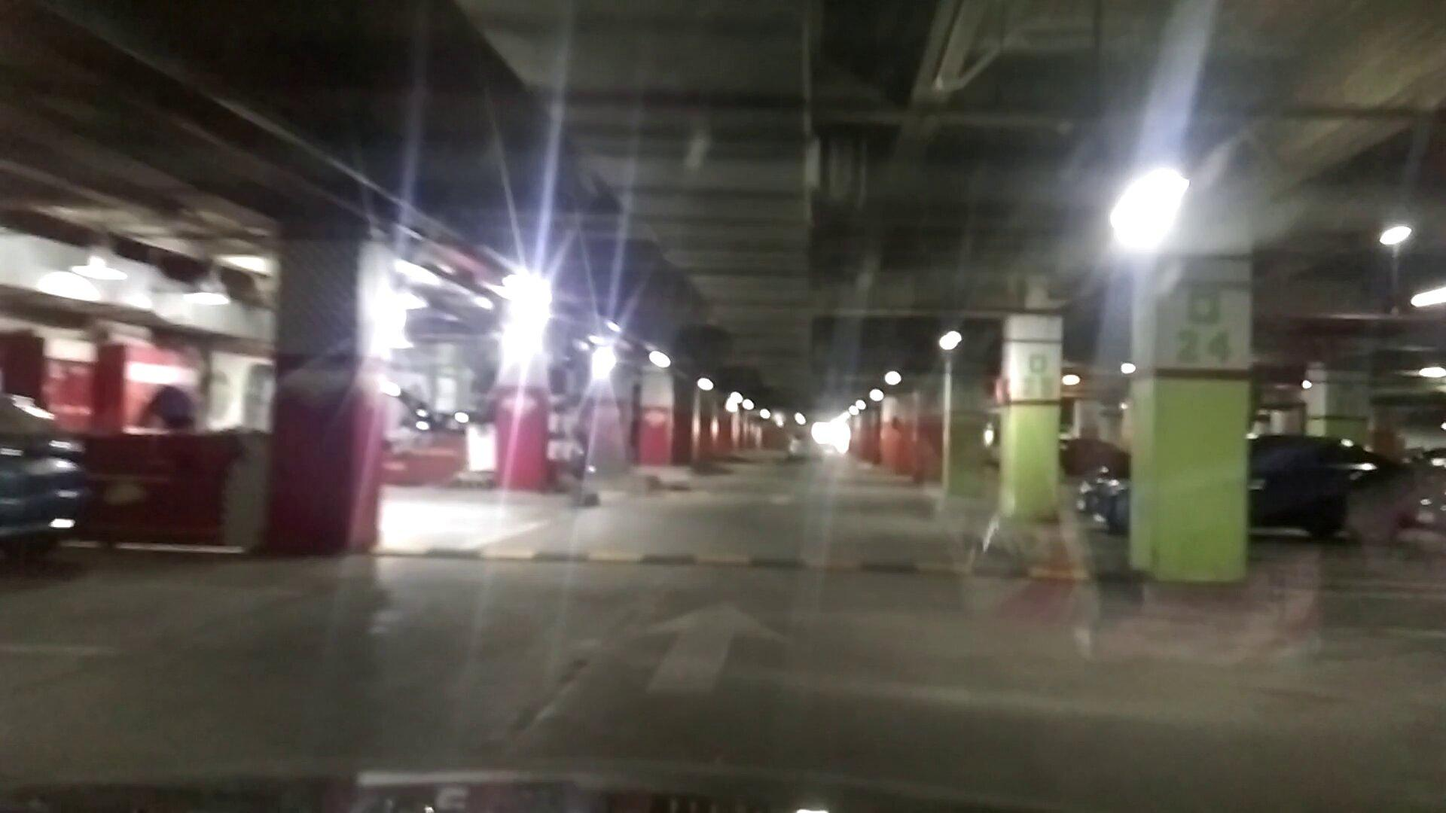Bump: (380, 533, 1132, 587)
